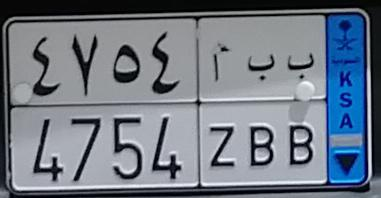4: (31, 36, 64, 182), (151, 31, 183, 180)
5: (111, 44, 145, 179)
7: (69, 33, 101, 182)
B: (285, 50, 317, 166), (246, 52, 275, 168)
Z: (210, 42, 238, 168)
